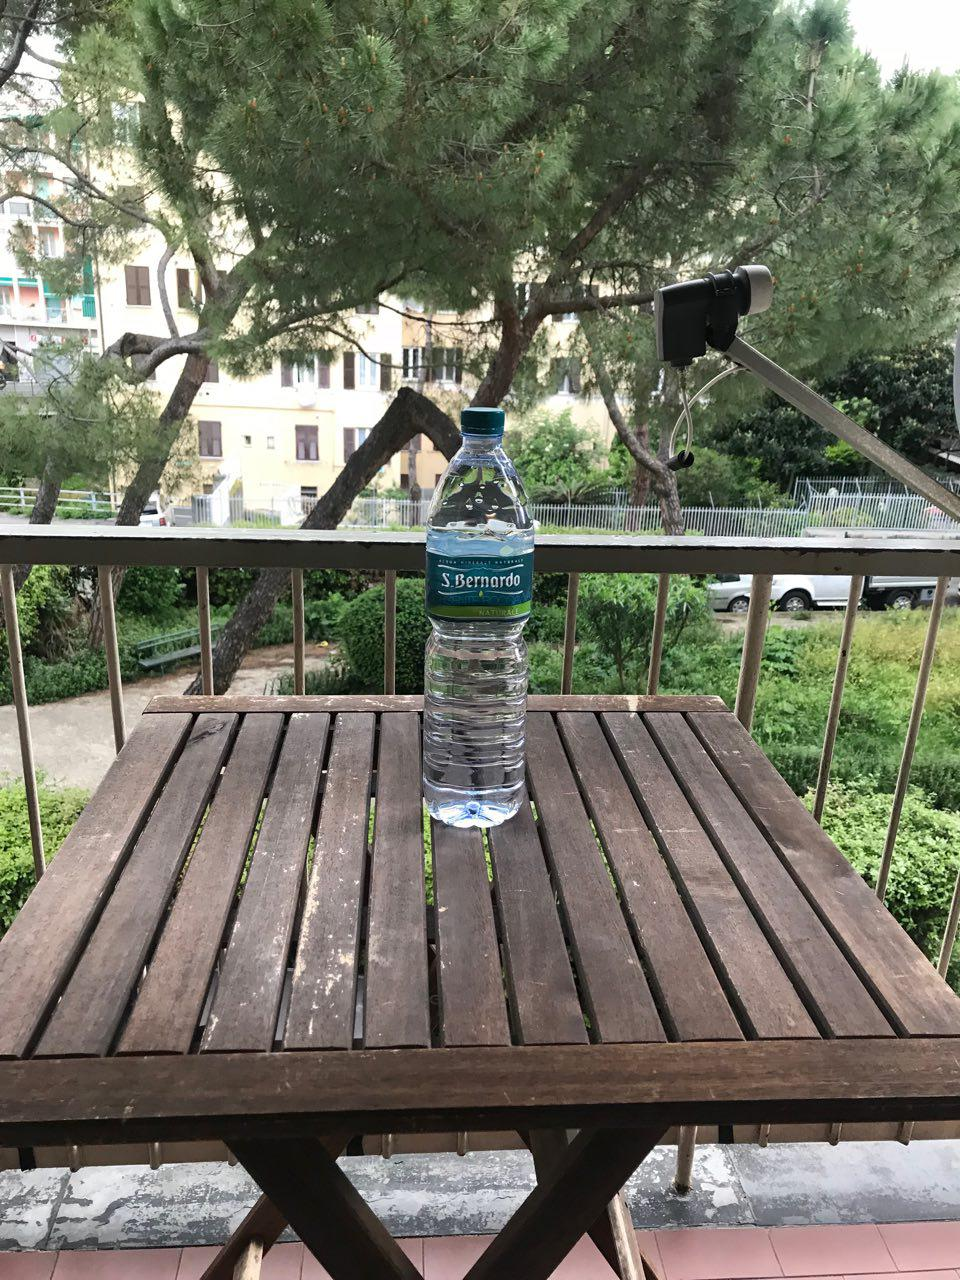san_bernardo: (421, 408, 535, 828)
